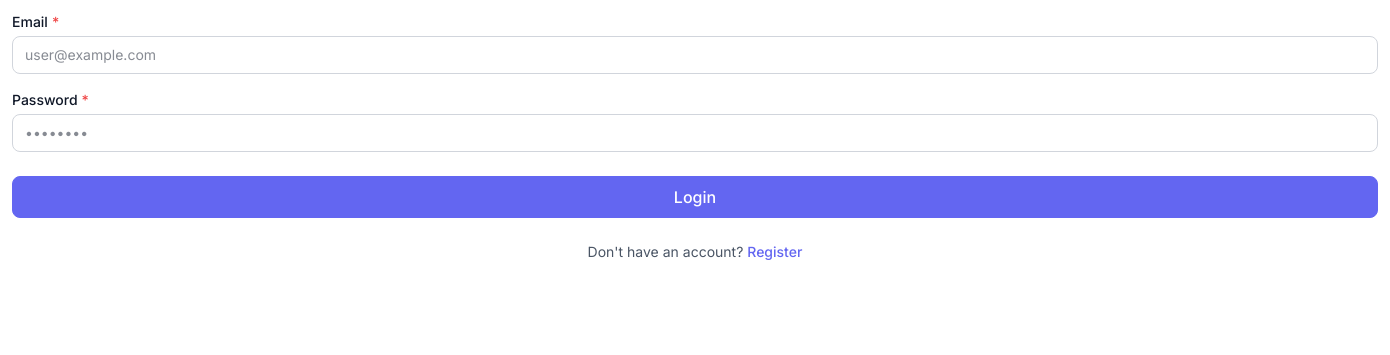
Test case: LoginForm › shows error message on failed login
Type "wrong@example.com" into the field with test id "login-email-input" at (695, 55), box [12,36,1378,74]
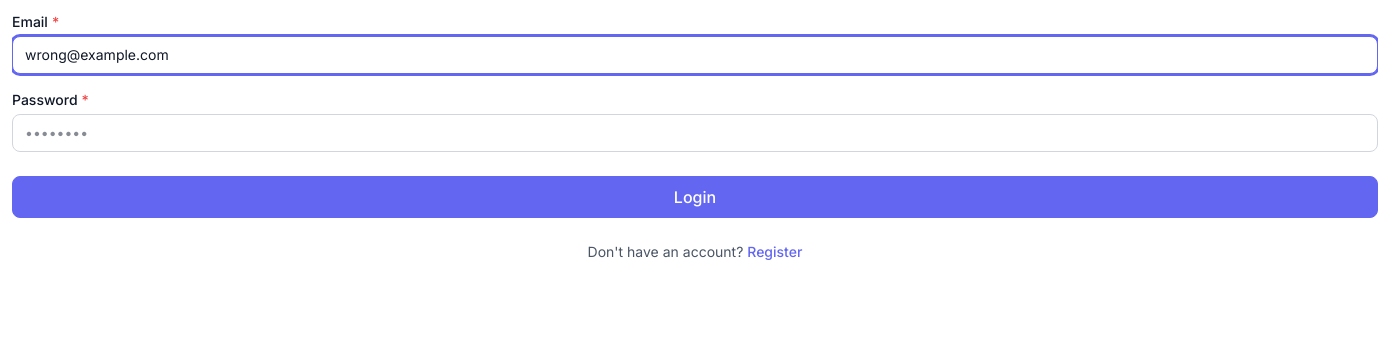
Type "wrongpass" into the password field with test id "login-password-input" at (695, 133), box [12,114,1378,152]
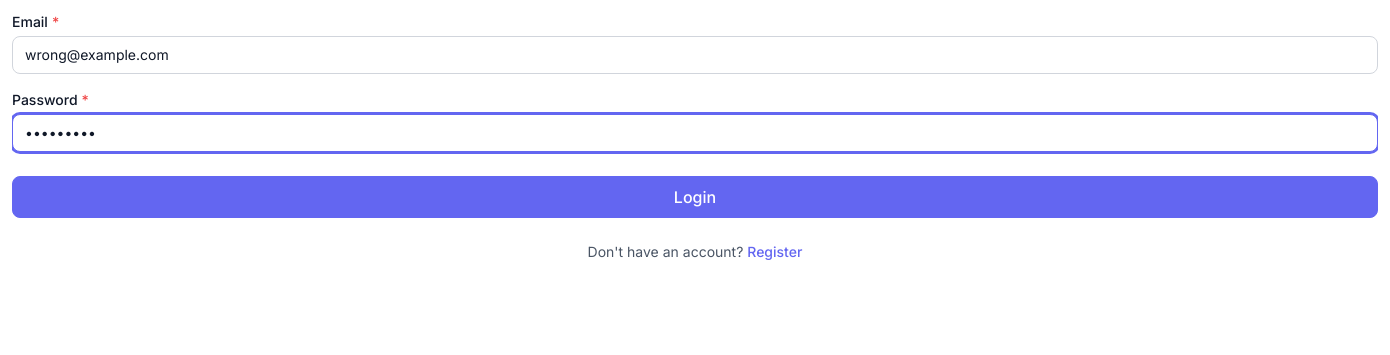
Click the button with test id "login-submit-btn" at (695, 197), box [12,176,1378,218]
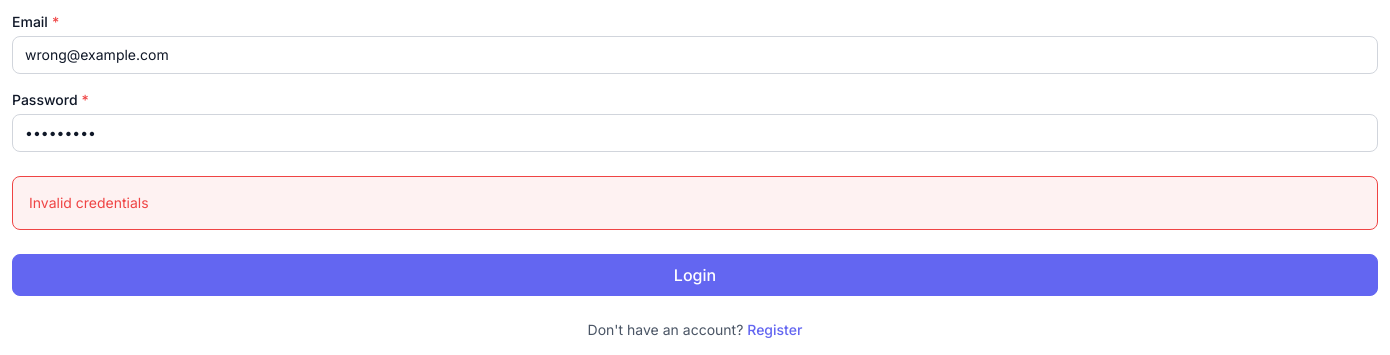
Expected: the text with test id "login-error" reads "Invalid credentials", [29,194,149,211]
